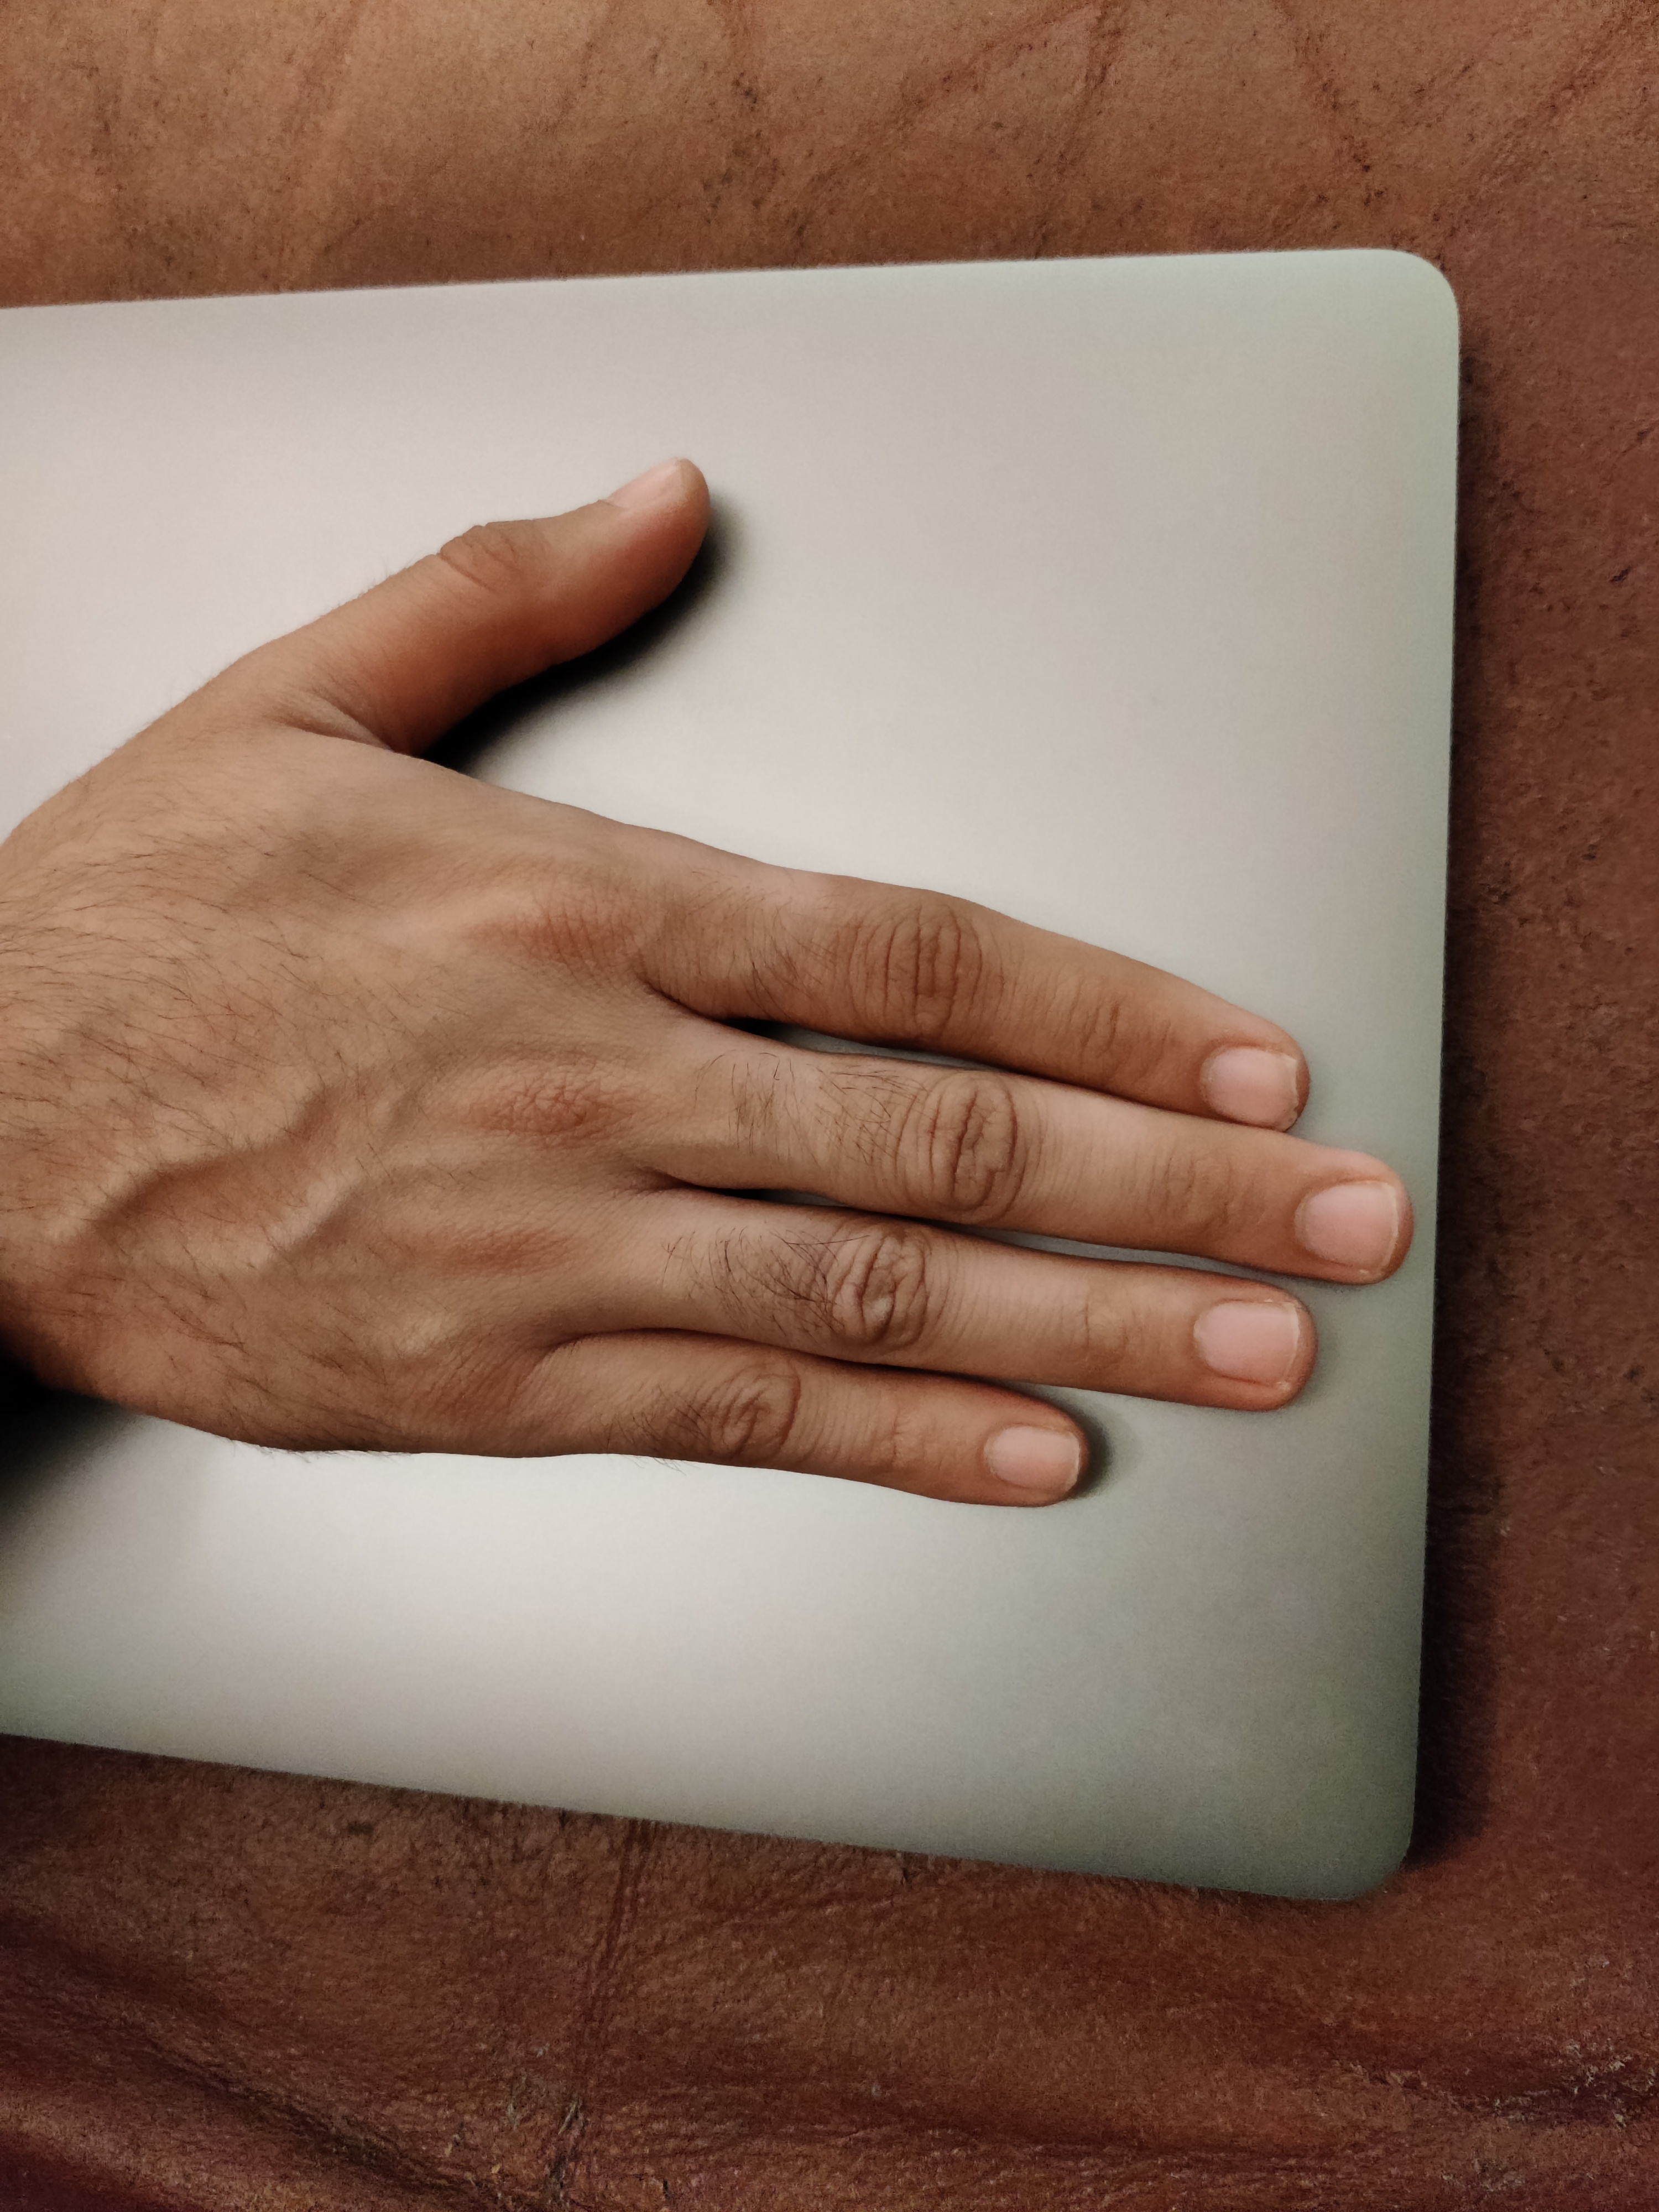left: (16, 258, 1457, 1639)
